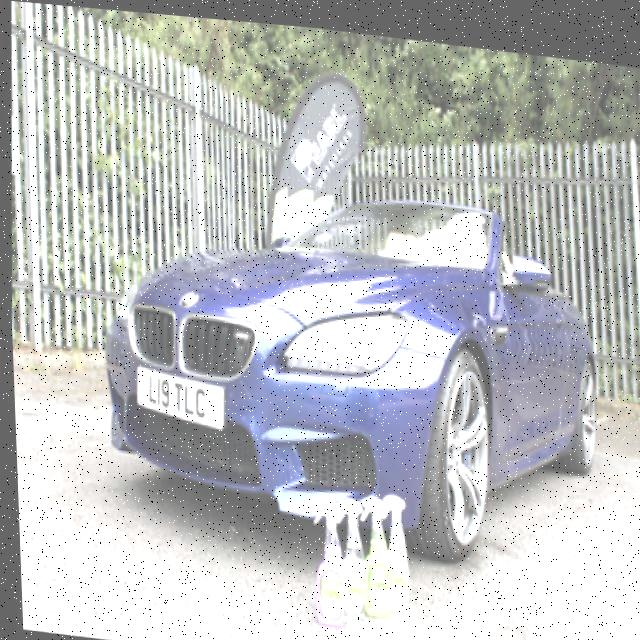license_plate: (127, 360, 222, 426)
